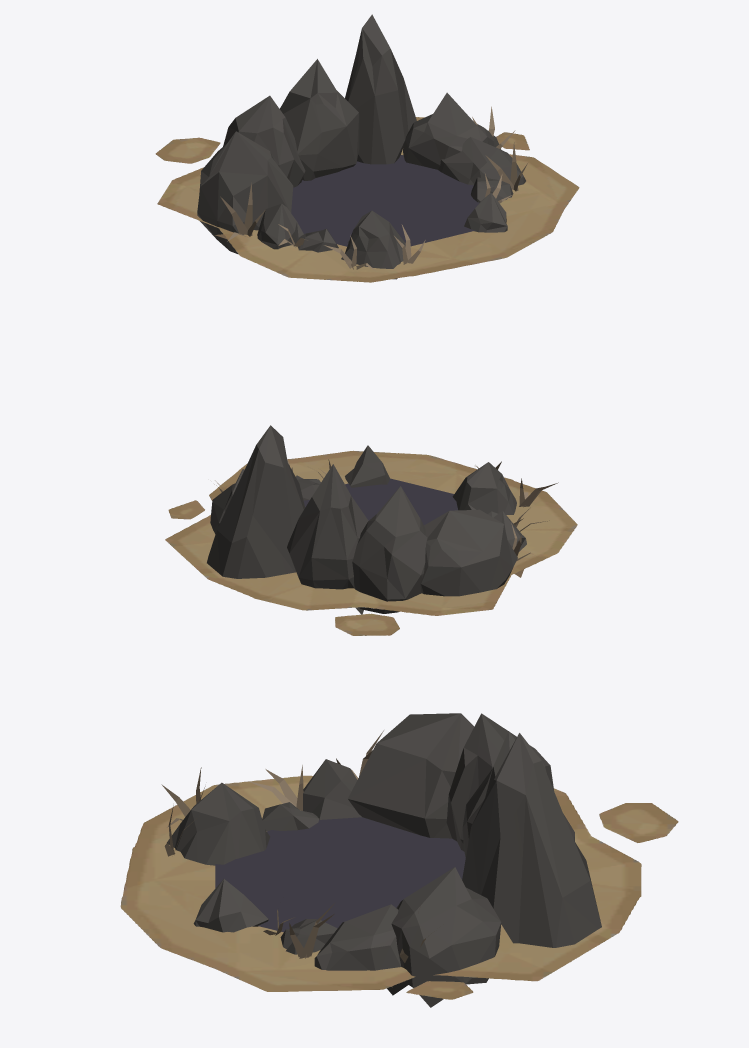
Rendered from deepPool.fbx.
3 views of the same model, one above another, from view 1: azimuth 30°, elevation 25°; view 2: azimuth 150°, elevation 25°; view 3: azimuth 270°, elevation 25° (orthographic). The views are drawn at different scales.
Visible parts, largest first — view 1: deepPool, groundDecal, deepPoolWater; view 2: deepPool, groundDecal, deepPoolWater; view 3: deepPool, groundDecal, deepPoolWater.
Boxes of the visible parts, <box> form: deepPool: <box>197,14,527,279</box>; groundDecal: <box>155,117,579,282</box>; deepPoolWater: <box>291,155,479,246</box>; deepPool: <box>207,425,558,614</box>; groundDecal: <box>165,450,577,635</box>; deepPoolWater: <box>303,478,457,525</box>; deepPool: <box>161,713,601,1007</box>; groundDecal: <box>120,775,678,999</box>; deepPoolWater: <box>215,817,465,932</box>.
Bounding box in the file's own units: 4 × 1.45 × 4.
